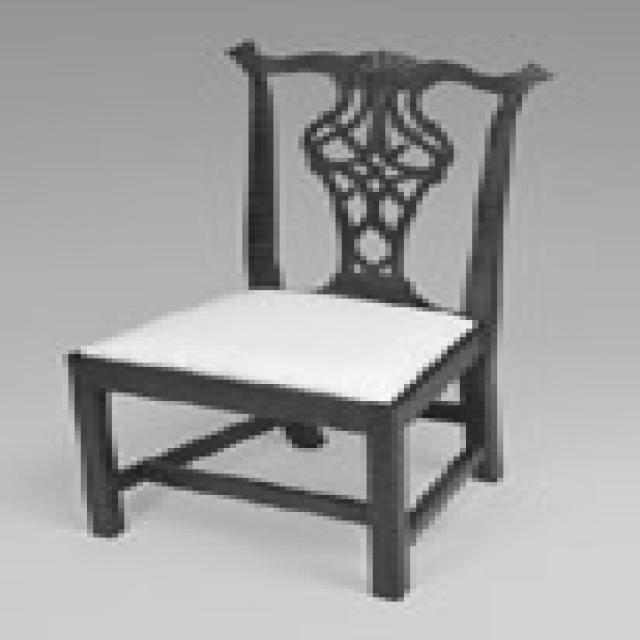chair: (66, 41, 558, 601)
